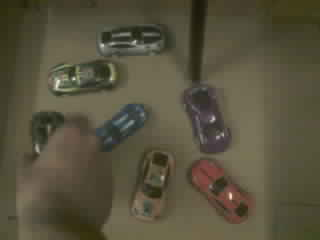Car: (191, 158, 251, 222), (183, 84, 230, 151), (130, 149, 174, 220), (96, 103, 147, 151), (49, 60, 117, 95), (98, 24, 165, 55), (32, 112, 64, 152)
